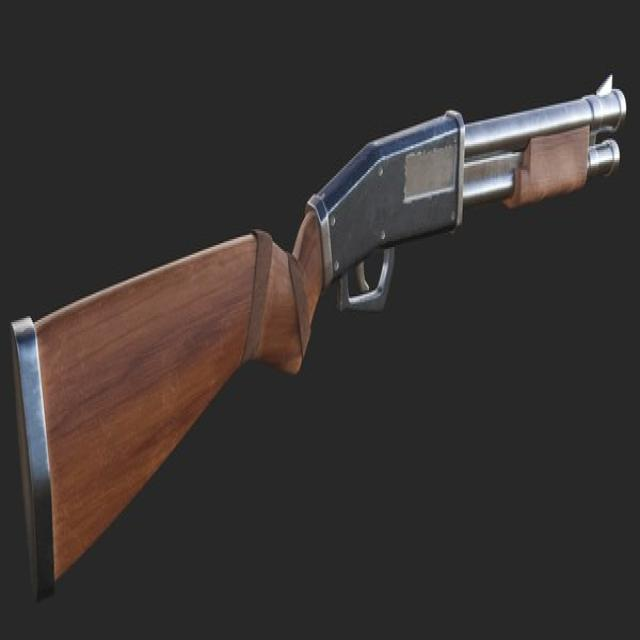ShotGun: (12, 75, 626, 599)
